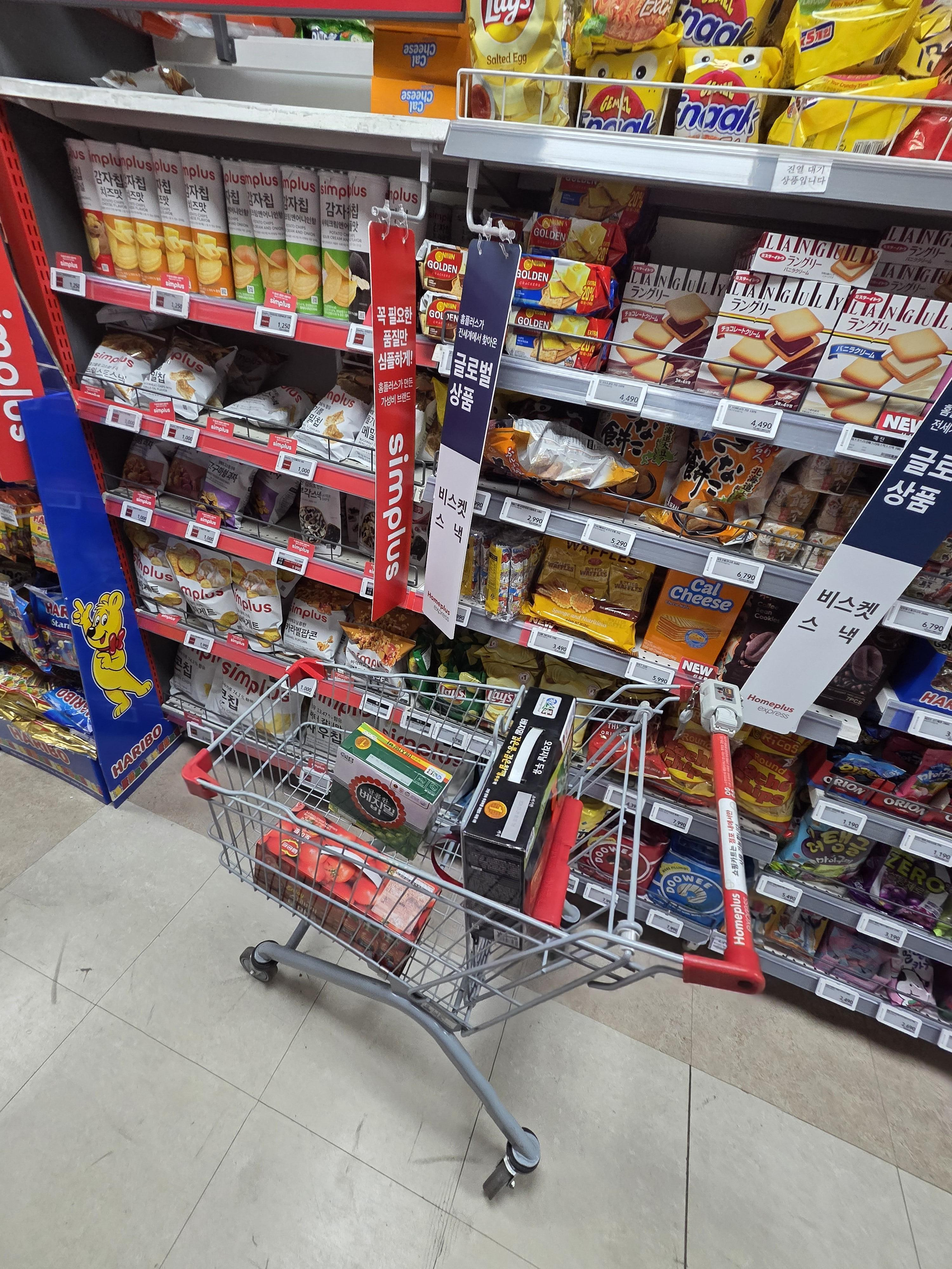fully_cart: (171, 632, 783, 1228)
